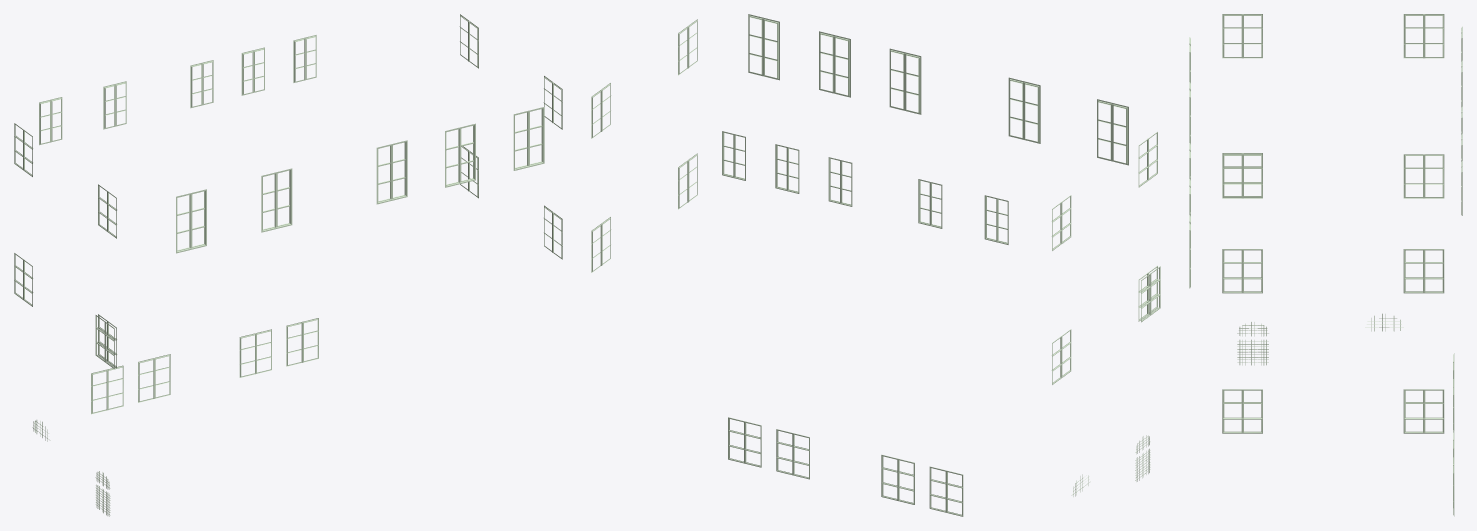
Rendered from FairyTale126.gltf.
3 views of the same model, side by side, from view 1: azimuth 30°, elevation 25°; view 2: azimuth 150°, elevation 25°; view 3: azimuth 270°, elevation 25° (orthographic). The views are drawn at different scales.
Parts seen in each view (by area): view 1: HouseLG05_Mullions_Wood; view 2: HouseLG05_Mullions_Wood; view 3: HouseLG05_Mullions_Wood.
Boxes of the visible parts, x1,y1,x2,y2 form: HouseLG05_Mullions_Wood: (14,14,562,516); HouseLG05_Mullions_Wood: (591,14,1160,516); HouseLG05_Mullions_Wood: (1189,14,1462,516).
Size of the model in its own units: 16.4 by 11.57 by 8.02.
